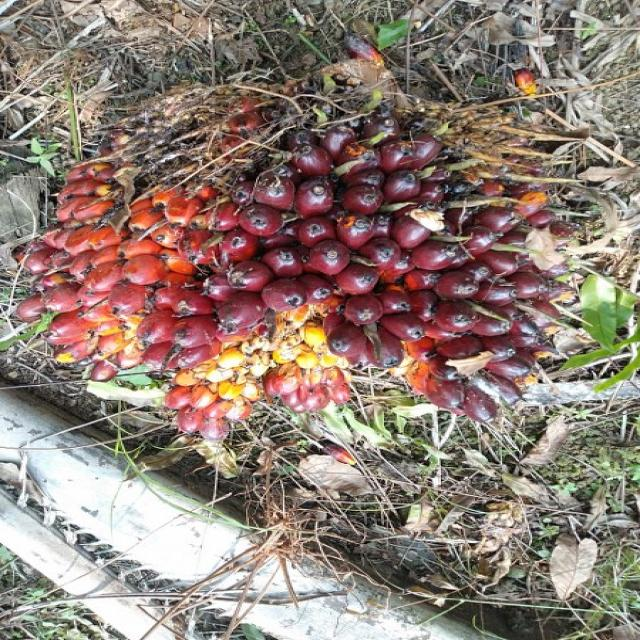fraksi 3: (0, 55, 600, 501)
